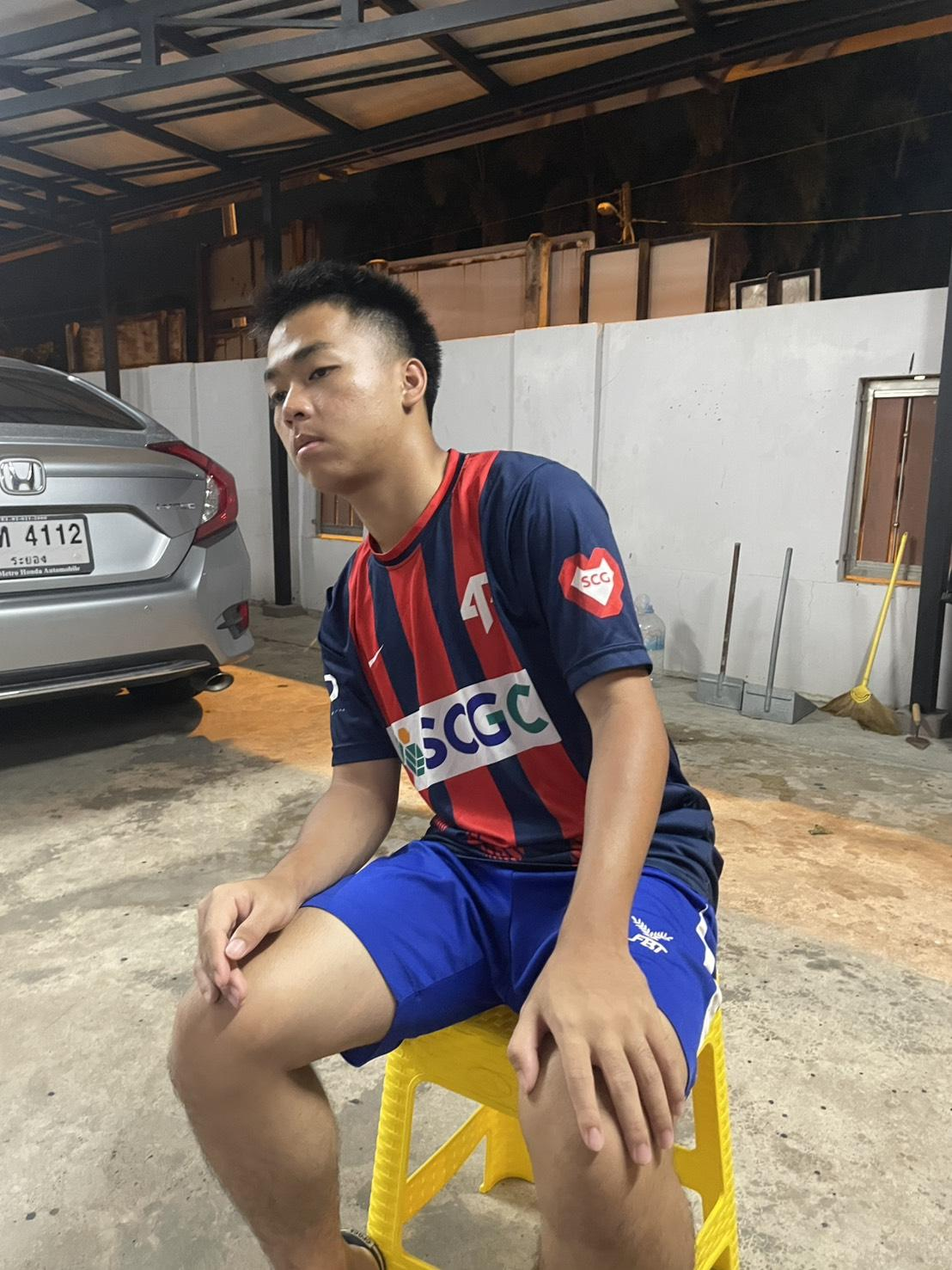BadPosture: (193, 262, 722, 994), (256, 262, 722, 901)
